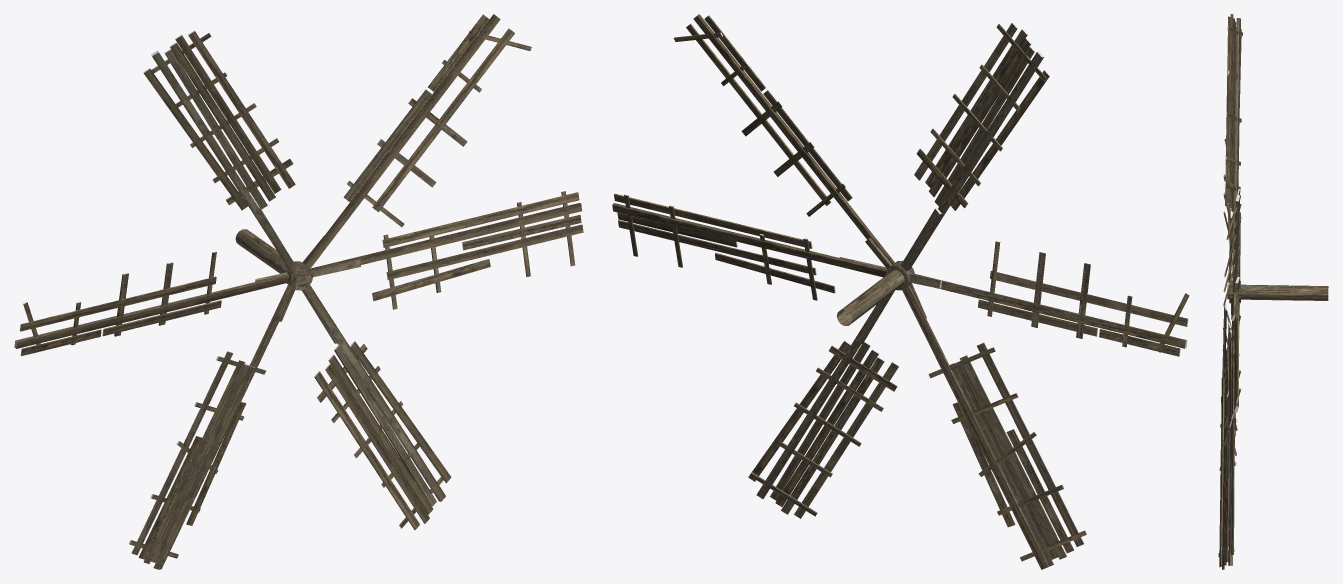
File: Windmill2.fbx
3 views of the same model, side by side, from view 1: azimuth 30°, elevation 25°; view 2: azimuth 150°, elevation 25°; view 3: azimuth 270°, elevation 25° (orthographic). The views are drawn at different scales.
Visible parts, largest first — view 1: polySurface328; view 2: polySurface328; view 3: polySurface328.
Part boxes in pixels (bbox=[...]): polySurface328: bbox=[14, 14, 583, 569]; polySurface328: bbox=[612, 14, 1189, 569]; polySurface328: bbox=[1218, 14, 1328, 569].
Bounding box in the file's own units: 17.86 × 16.52 × 3.56.
